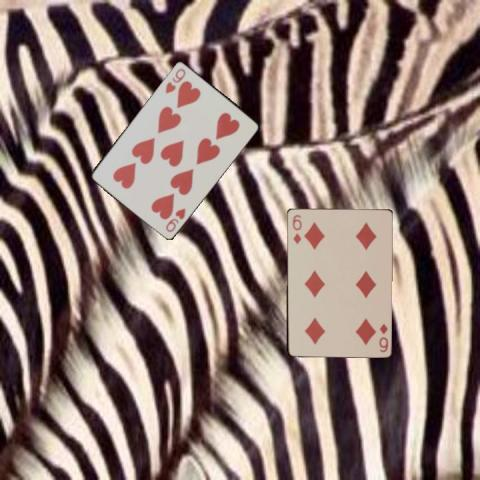6d: (289, 212, 303, 246), (376, 321, 389, 353)
9h: (162, 64, 187, 94), (162, 205, 186, 233)
